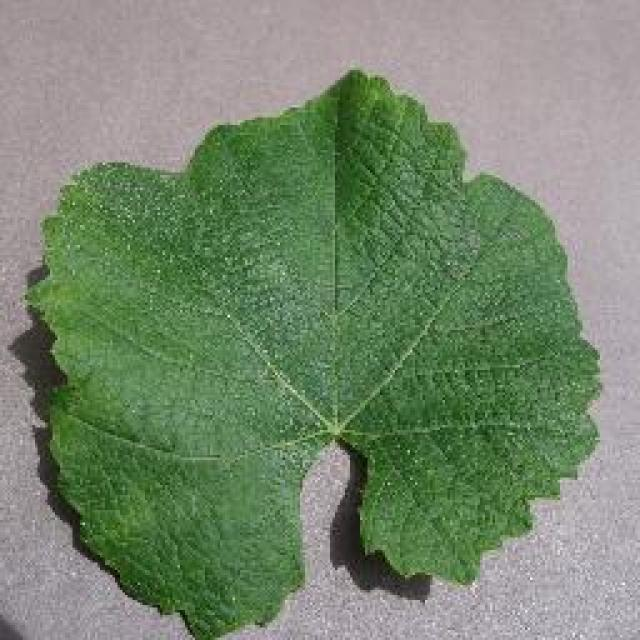Grape___healthy: (28, 70, 598, 638)
